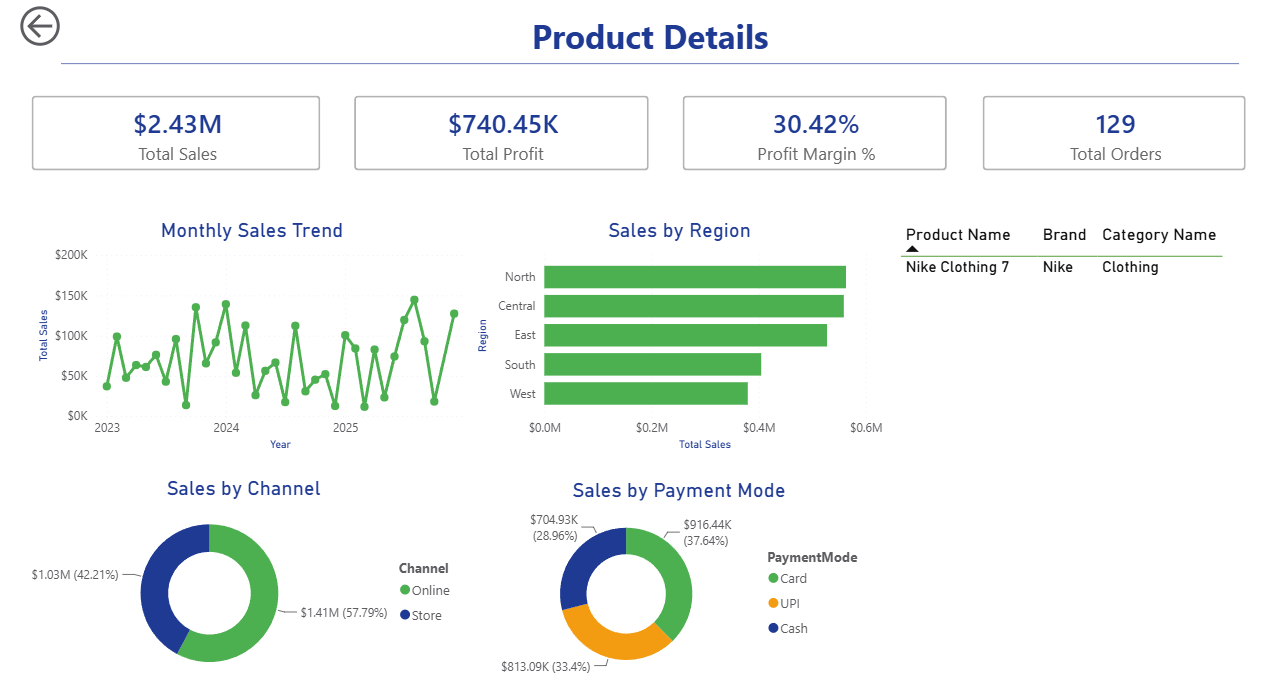

Layout of this report page (visuals, bound fields, positions):
{"tool":"powerbi","page":{"name":"Product Details","canvas":[1280,720],"ordinal":1},"visuals":[{"type":"actionButton","title":"BACK","box":[13,11.3,63.1,51.8],"z":0},{"type":"cardVisual","fields":{"Data":["_Measures.Total Sales"]},"box":[13,89.1,327.1,110.1],"z":1000},{"type":"cardVisual","fields":{"Data":["_Measures.Total Orders"]},"box":[978,89.1,301.2,110.1],"z":2000},{"type":"cardVisual","fields":{"Data":["_Measures.Profit Margin %"]},"box":[673.6,89.1,302.8,110.1],"z":3000},{"type":"cardVisual","fields":{"Data":["_Measures.Total Profit"]},"box":[340,89.1,333.6,110.1],"z":4000},{"type":"lineChart","title":"Monthly Sales Trend","fields":{"Category":["Date.Date.Variation.Date Hierarchy.Year","Date.Date.Variation.Date Hierarchy.Month"],"Y":["_Measures.Total Sales"]},"box":[32.4,231.5,445.3,239.6],"z":5000},{"type":"clusteredBarChart","title":"Sales by Region","fields":{"Category":["Regions.Region"],"Y":["_Measures.Total Sales"]},"box":[477.7,231.5,421,239.6],"z":6000},{"type":"donutChart","title":"Sales by Channel","fields":{"Category":["Sales.Channel"],"Y":["_Measures.Total Sales"]},"box":[13,492.2,464.7,213.7],"z":7000},{"type":"donutChart","title":"Sales by Payment Mode","fields":{"Category":["Sales.PaymentMode"],"Y":["_Measures.Total Sales"]},"box":[485.8,493.9,404.8,212.1],"z":8000},{"type":"tableEx","fields":{"Values":["Products.Product Name","Products.Brand","Categories.Category Name"]},"box":[906.8,231.5,349.8,474.4],"z":9000},{"type":"textbox","title":"Product Details","box":[61.5,24.3,1195,79.3],"z":10000}]}

Visuals, with their boxes in screenshot pixels (x1, y1, x2, y2), scaled from the page's 1280x720 canvas onto the 1273x696 screenshot:
"BACK" actionButton: bbox=[13, 11, 76, 61]
cardVisual - _Measures.Total Sales: bbox=[13, 86, 338, 193]
cardVisual - _Measures.Total Orders: bbox=[973, 86, 1272, 193]
cardVisual - _Measures.Profit Margin %: bbox=[670, 86, 971, 193]
cardVisual - _Measures.Total Profit: bbox=[338, 86, 670, 193]
"Monthly Sales Trend" lineChart: bbox=[32, 224, 475, 455]
"Sales by Region" clusteredBarChart: bbox=[475, 224, 894, 455]
"Sales by Channel" donutChart: bbox=[13, 476, 475, 682]
"Sales by Payment Mode" donutChart: bbox=[483, 477, 886, 682]
tableEx - Products.Product Name x Products.Brand: bbox=[902, 224, 1250, 682]
"Product Details" textbox: bbox=[61, 23, 1250, 100]
